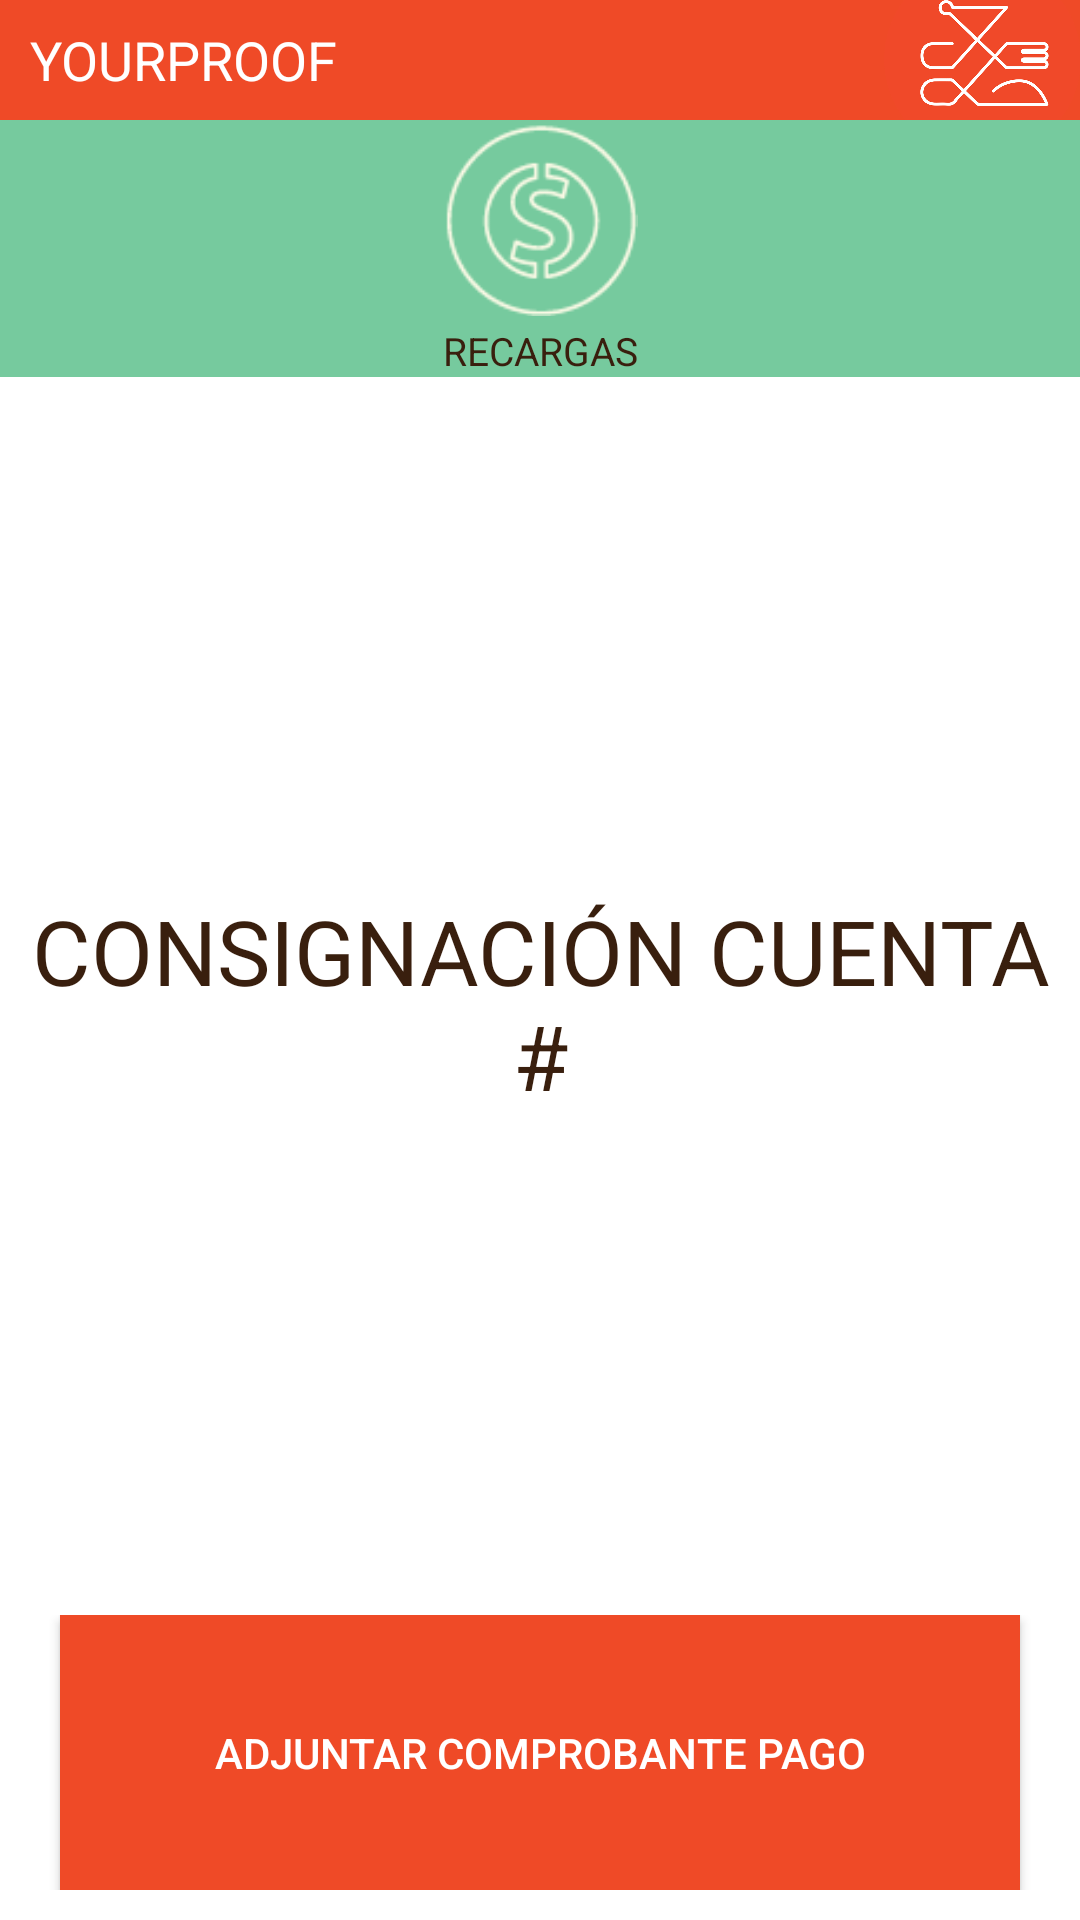

Icons on this 1080px×1920px Android screen, each with the point to tap as (x=x, y=y):
dinero: (x=542, y=220)
